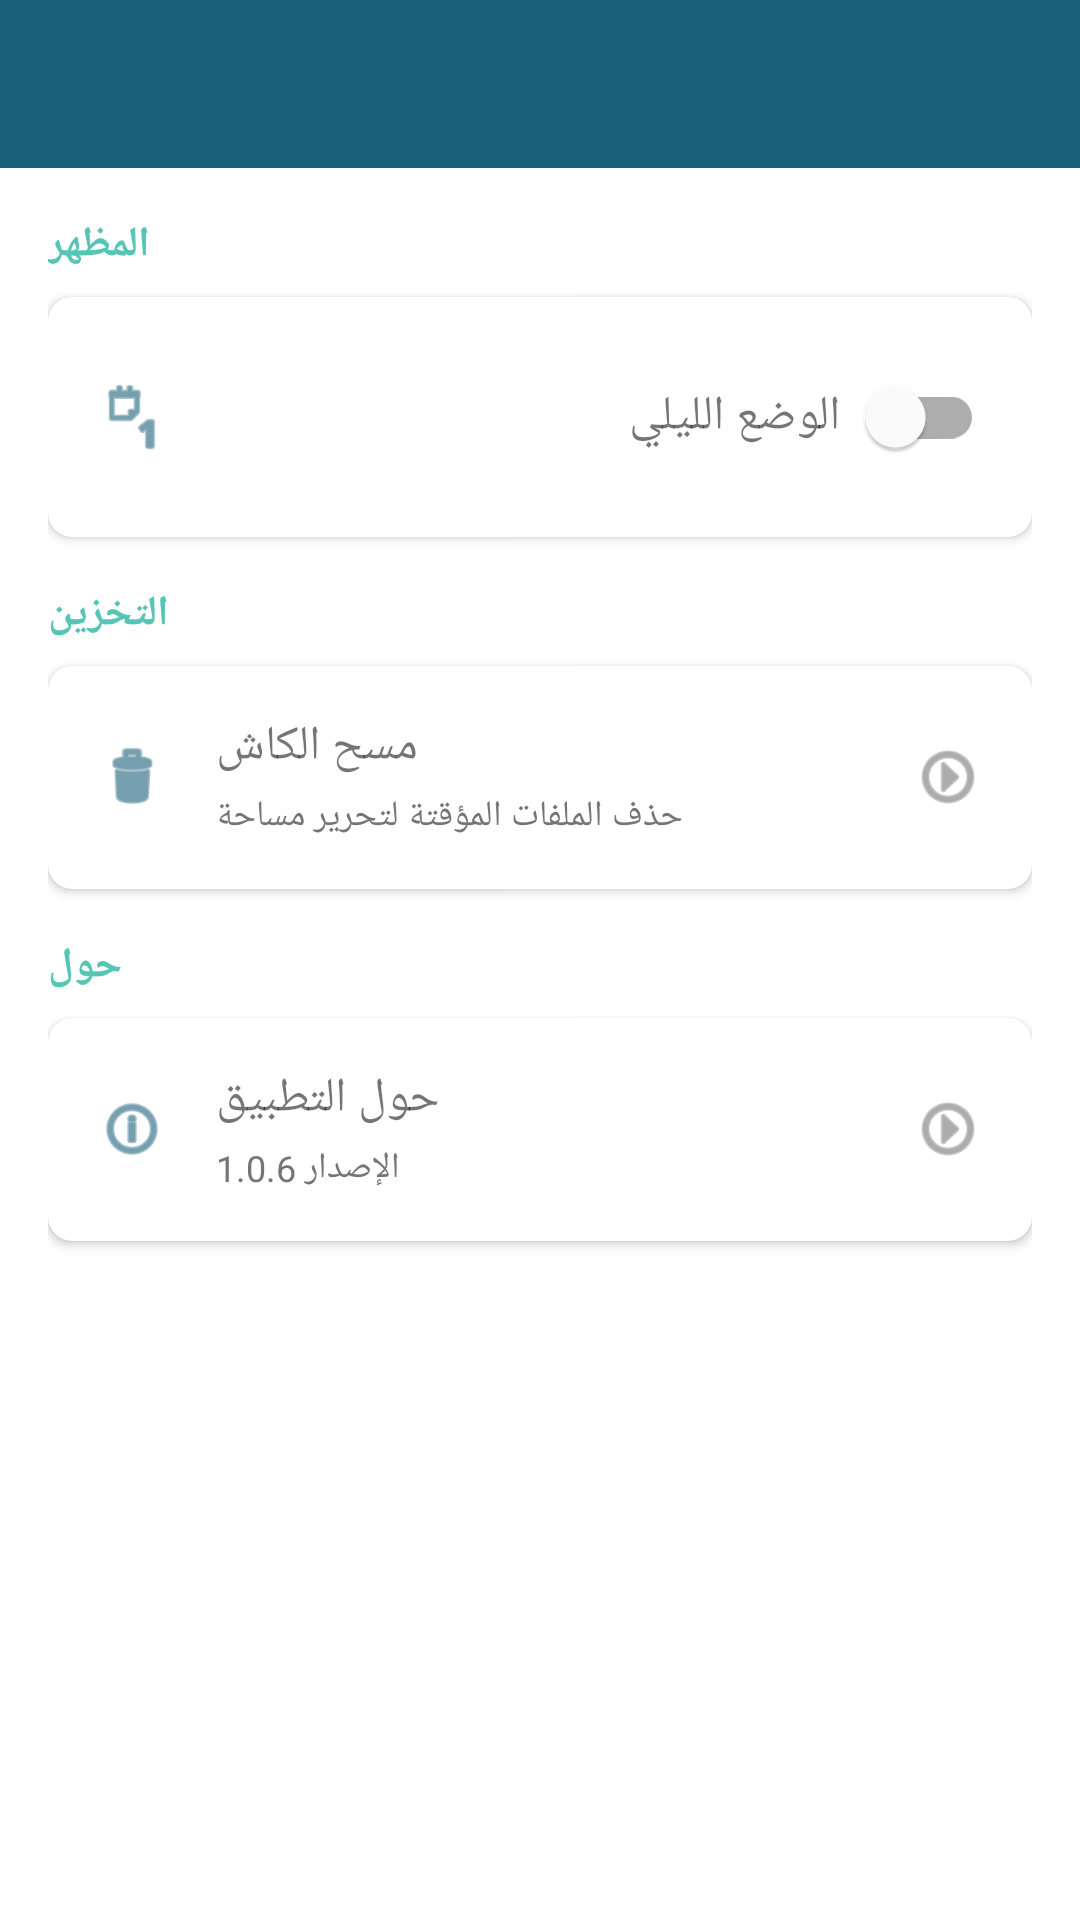

Icon click points for this 1080 × 1920 phone screenshot, format (x=x, y=y):
delete: (x=132, y=776)
info details: (x=132, y=1129)
